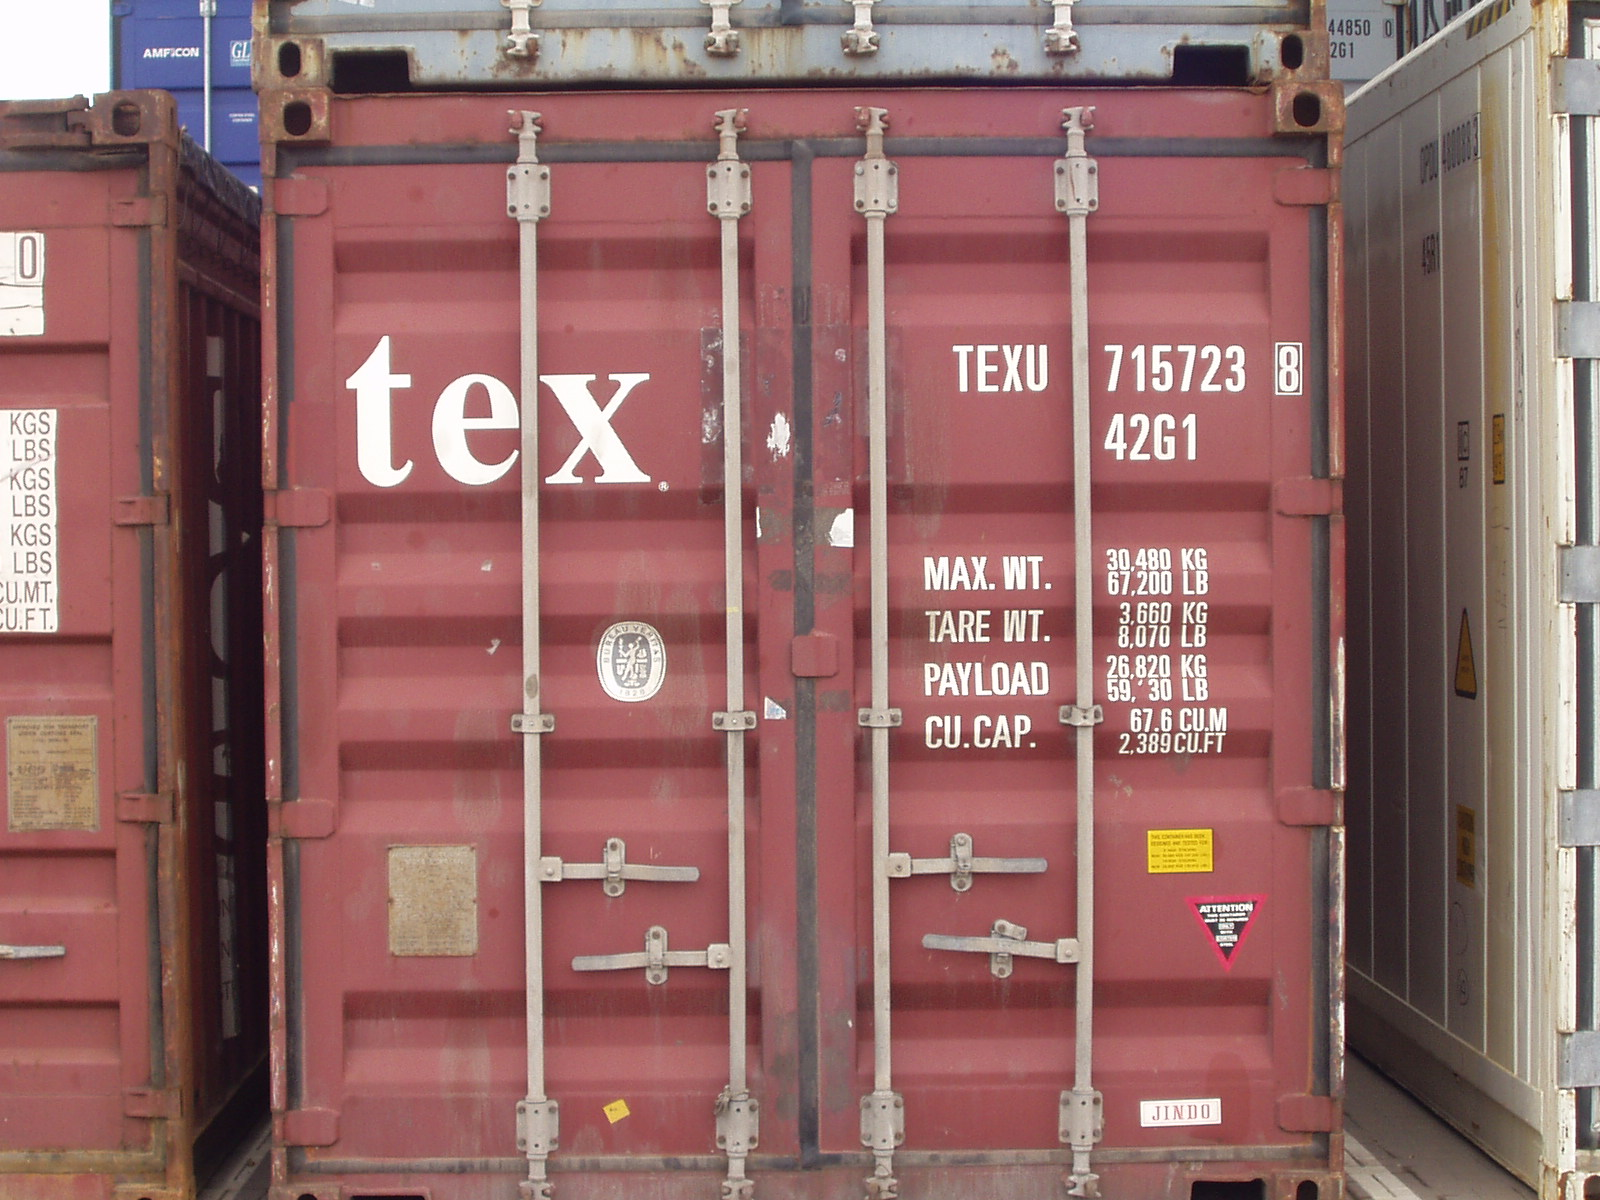container_door: (256, 79, 1348, 1184)
